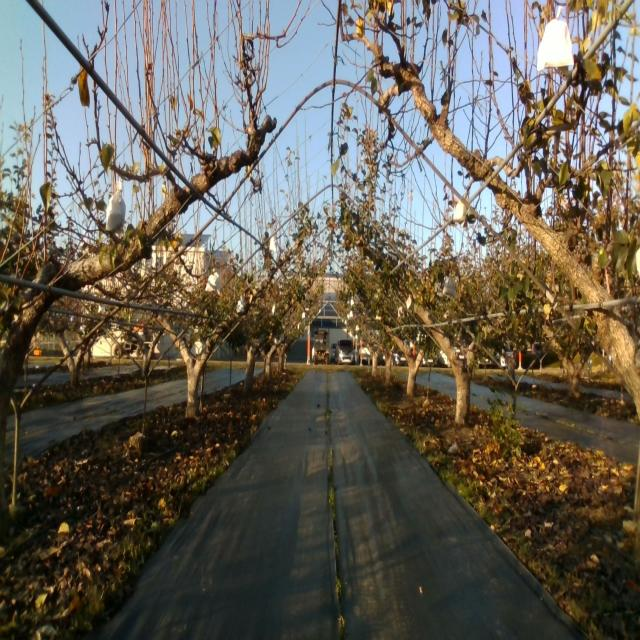pearbags: (536, 7, 573, 71), (105, 178, 126, 230), (453, 197, 467, 230), (205, 268, 220, 293), (443, 276, 456, 298)
